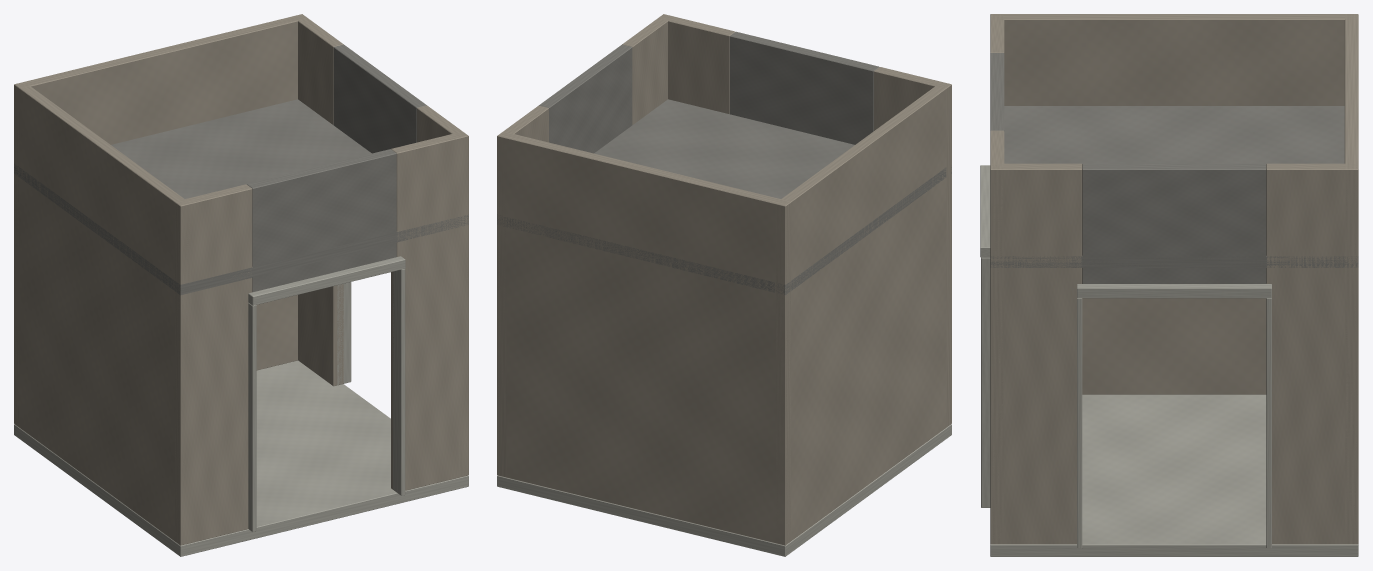
The model's file is I03_CornerPassage_visual.glb.
3 renders of one model, left to right at view 1: azimuth 30°, elevation 25°; view 2: azimuth 150°, elevation 25°; view 3: azimuth 270°, elevation 25°, orthographic. The views are drawn at different scales.
Visible parts, largest first — view 1: I03_CornerPassage__VIS_shell, I03_CornerPassage__VIS_roof; view 2: I03_CornerPassage__VIS_shell, I03_CornerPassage__VIS_roof; view 3: I03_CornerPassage__VIS_shell, I03_CornerPassage__VIS_roof.
Part boxes in pixels (box(x1,y1,x2,y2)): I03_CornerPassage__VIS_shell: box(14, 14, 468, 556); I03_CornerPassage__VIS_roof: box(14, 99, 468, 295); I03_CornerPassage__VIS_shell: box(497, 14, 951, 556); I03_CornerPassage__VIS_roof: box(497, 99, 951, 295); I03_CornerPassage__VIS_shell: box(980, 14, 1358, 556); I03_CornerPassage__VIS_roof: box(990, 106, 1358, 267).
Size of the model in its own units: 16.43 by 18.6 by 16.43.
Materials: 1 (1 with a texture image).
